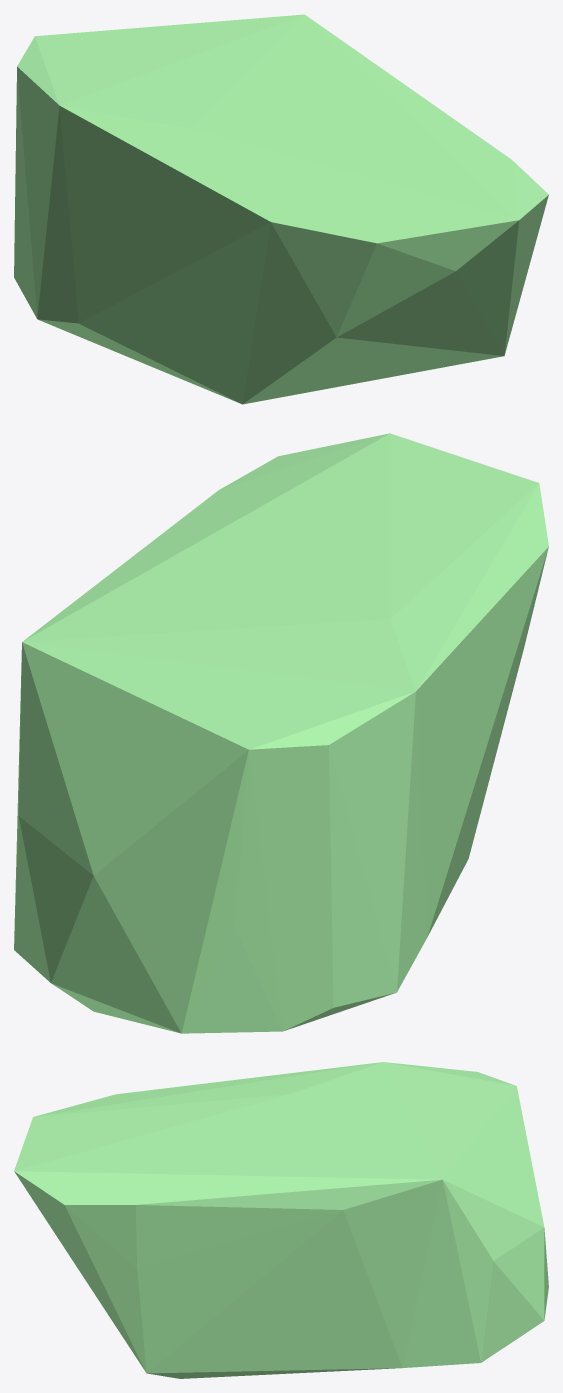
The model's file is linkhou_LR4_R560_link3_respondable_coll_10.dae.
The picture shows the model from 3 angles, top to bottom: view 1: azimuth 30°, elevation 25°; view 2: azimuth 150°, elevation 25°; view 3: azimuth 270°, elevation 25°; orthographic projection. The views are drawn at different scales.
Visible parts, largest first — view 1: Node_00000209DB3ACC00; view 2: Node_00000209DB3ACC00; view 3: Node_00000209DB3ACC00.
Part boxes in pixels (<box>): Node_00000209DB3ACC00: <box>14,14,548,404</box>; Node_00000209DB3ACC00: <box>14,433,548,1033</box>; Node_00000209DB3ACC00: <box>14,1062,548,1378</box>.
Bounding box in the file's own units: 0.1277 × 0.0938 × 0.2277.
